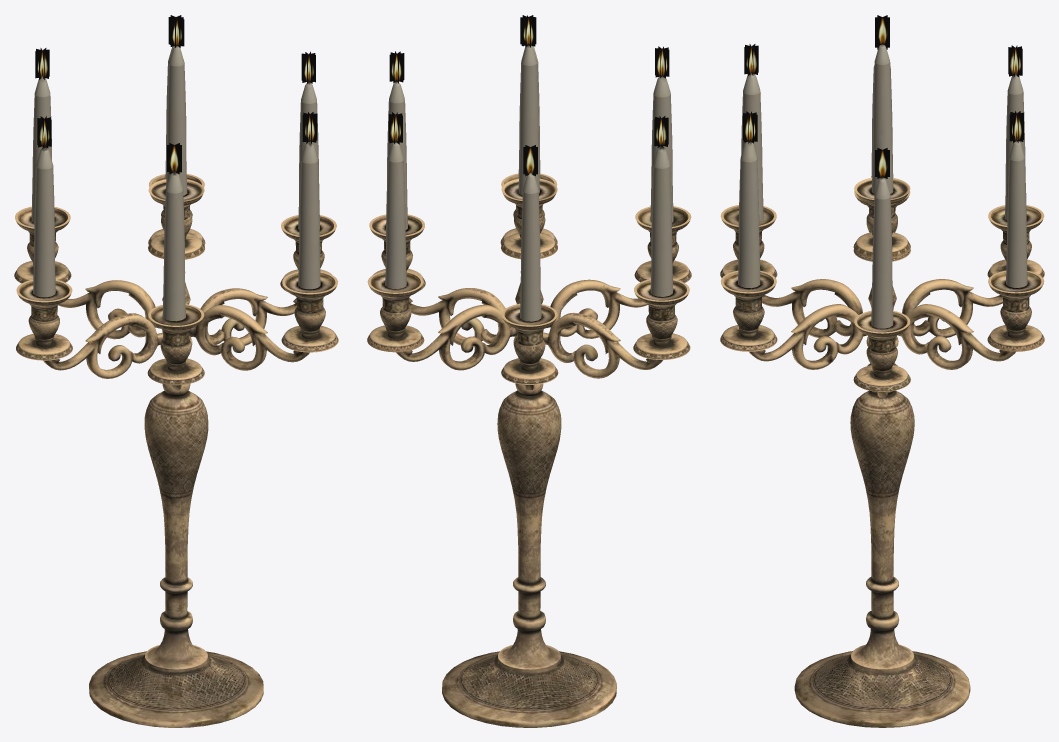
Rendered from candelabra.glb.
3 renders of one model, left to right at view 1: azimuth 30°, elevation 25°; view 2: azimuth 150°, elevation 25°; view 3: azimuth 270°, elevation 25°, orthographic.
Visible parts, largest first — view 1: brass_candleholder_03; view 2: brass_candleholder_03; view 3: brass_candleholder_03.
Boxes of the visible parts, x1=… form: brass_candleholder_03: x1=14, y1=15, x2=338, y2=727; brass_candleholder_03: x1=367, y1=15, x2=691, y2=727; brass_candleholder_03: x1=720, y1=15, x2=1044, y2=727.
Size of the model in its own units: 0.4083 by 0.8352 by 0.3647.
2 materials, 2 textured.
